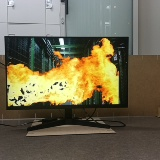fire: (6, 38, 128, 108)
